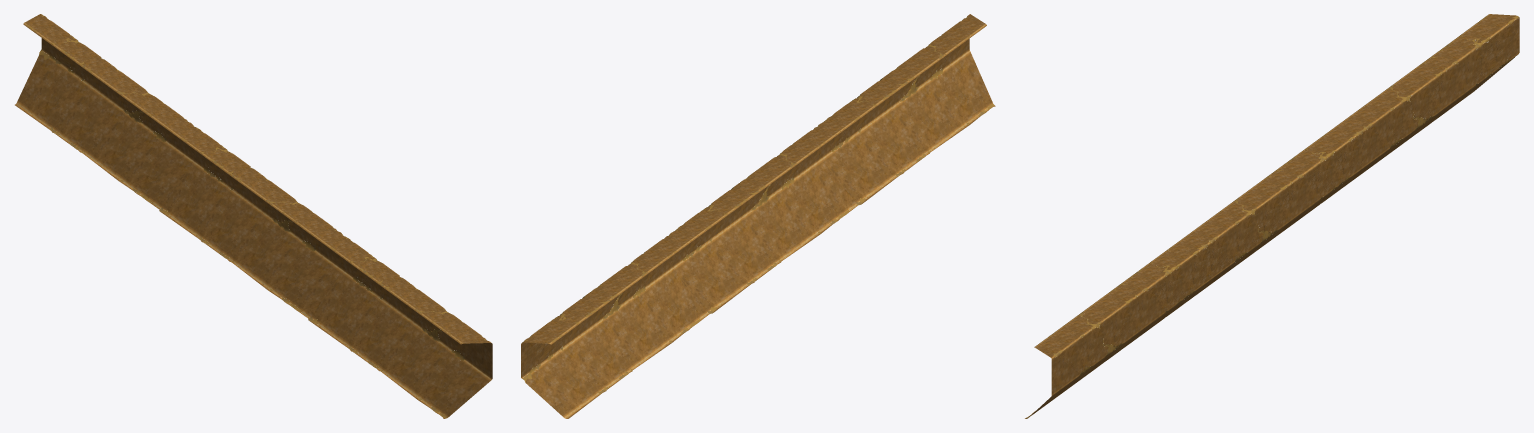
The picture shows the model from 3 angles, left to right: view 1: azimuth 30°, elevation 25°; view 2: azimuth 150°, elevation 25°; view 3: azimuth 330°, elevation 25°; orthographic projection. The views are drawn at different scales.
Visible parts, largest first — view 1: SM_Nightmare_Crucible_Arena_BorderE_01v1_LOD0; view 2: SM_Nightmare_Crucible_Arena_BorderE_01v1_LOD0; view 3: SM_Nightmare_Crucible_Arena_BorderE_01v1_LOD0.
Part boxes in pixels (<box>): SM_Nightmare_Crucible_Arena_BorderE_01v1_LOD0: <box>15,14,492,418</box>; SM_Nightmare_Crucible_Arena_BorderE_01v1_LOD0: <box>521,14,995,418</box>; SM_Nightmare_Crucible_Arena_BorderE_01v1_LOD0: <box>1025,14,1519,418</box>.
Bounding box in the file's own units: 6.69 × 12.75 × 138.
Materials: 2 (2 with a texture image).
